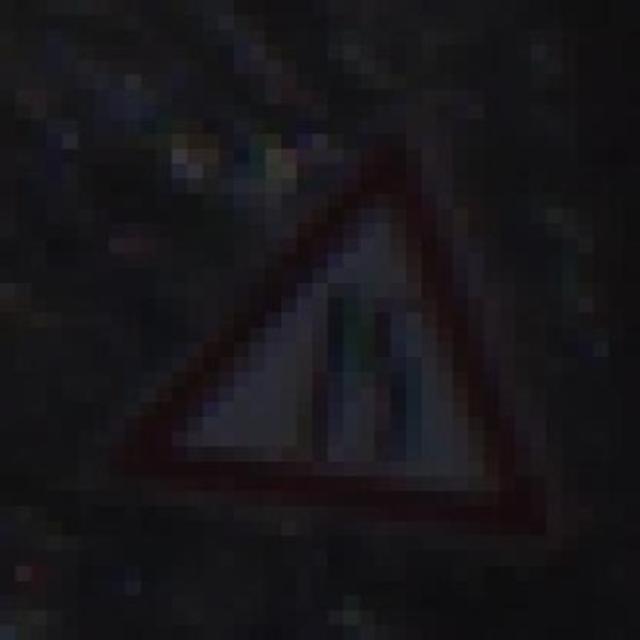-Road narrows on right: (78, 90, 562, 536)
